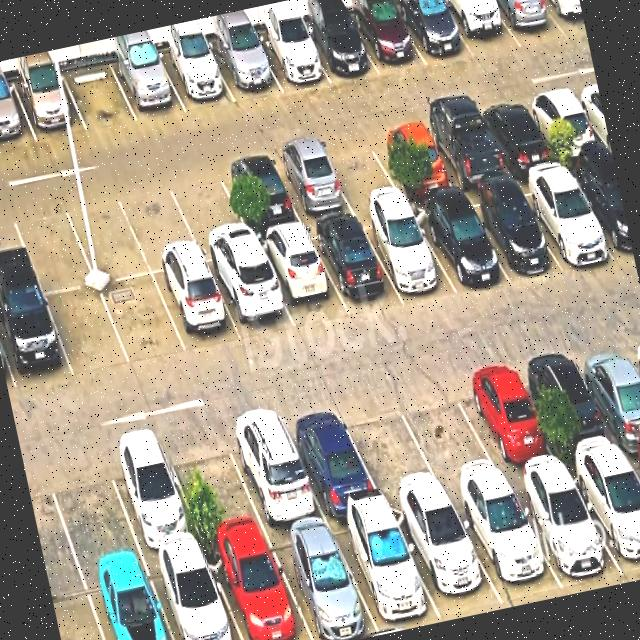empty: (391, 370, 506, 494), (160, 422, 266, 545), (335, 385, 445, 503), (41, 443, 141, 571), (165, 165, 256, 262), (61, 187, 151, 283), (117, 178, 204, 273), (99, 273, 187, 366), (9, 198, 95, 293), (45, 285, 130, 378), (317, 133, 402, 209), (61, 60, 137, 130)
occupied: (328, 508, 441, 635), (508, 470, 623, 589), (449, 482, 562, 603), (390, 497, 503, 617), (452, 357, 562, 480), (220, 404, 326, 531), (265, 523, 379, 640), (100, 432, 203, 556), (278, 398, 383, 518), (520, 344, 624, 465), (204, 534, 312, 640), (513, 167, 616, 268), (459, 184, 560, 281), (409, 197, 510, 294), (255, 227, 349, 330), (307, 216, 402, 315), (567, 453, 640, 581), (358, 207, 457, 301), (144, 547, 242, 640), (570, 335, 640, 452), (153, 263, 242, 353), (207, 253, 295, 340), (82, 559, 173, 640), (0, 291, 73, 391), (420, 109, 510, 189), (216, 154, 303, 235), (565, 158, 634, 260), (269, 143, 354, 222), (369, 121, 455, 195), (475, 96, 558, 172), (522, 86, 604, 160), (347, 0, 426, 75), (299, 13, 379, 83), (156, 44, 235, 112), (392, 0, 474, 65), (109, 52, 186, 121), (12, 70, 86, 140), (252, 26, 330, 91), (439, 0, 521, 59), (208, 36, 281, 101), (489, 0, 567, 47), (0, 80, 36, 148), (542, 0, 586, 36)
